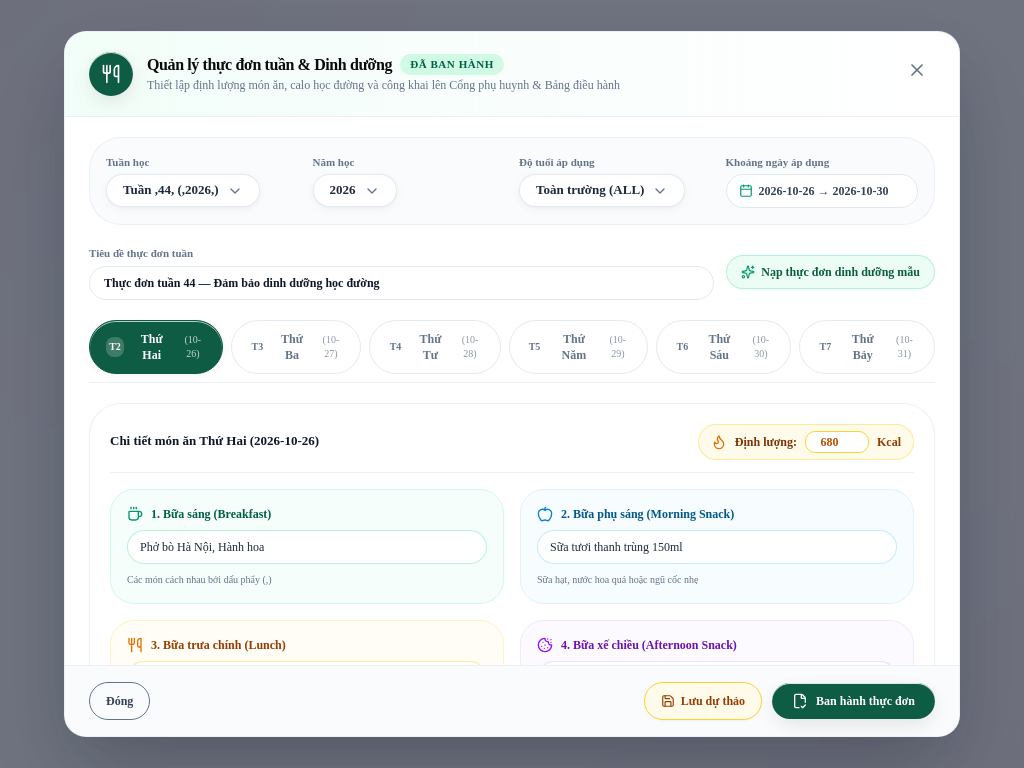
WeeklyMenuEditorModal Component › allows clicking sample menu button to fill dishes
Click the button "Nạp thực đơn dinh dưỡng mẫu" at (831, 272), box top-left (726, 256), bottom-right (935, 290)
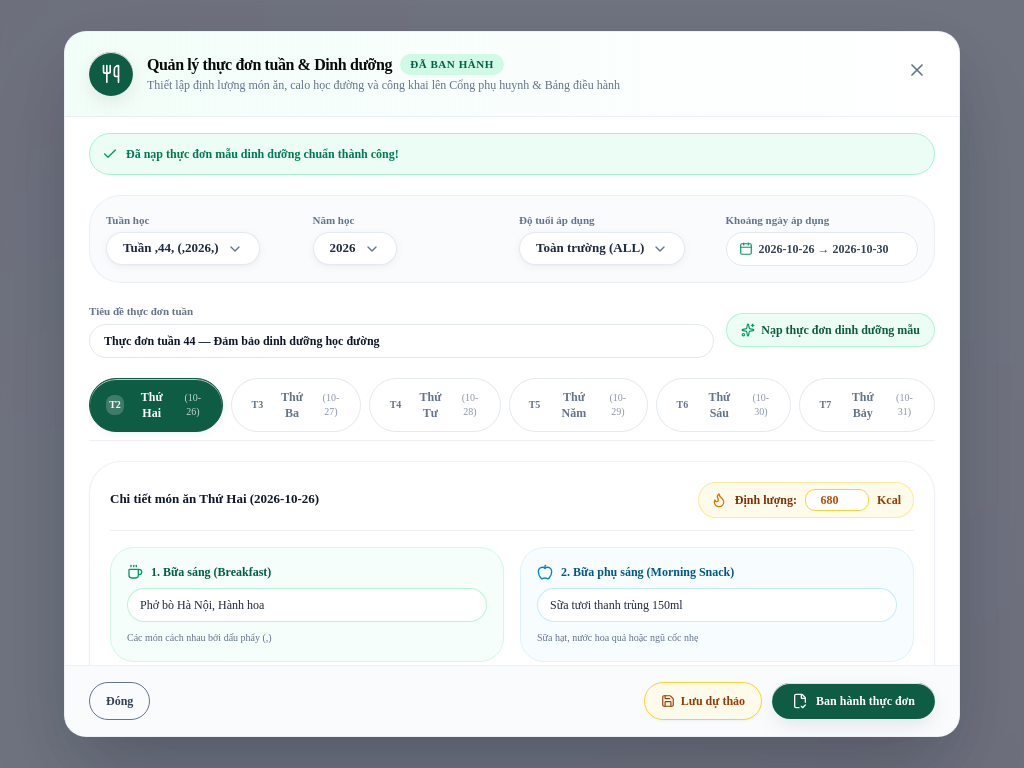
Expected: the text "Đã nạp thực đơn mẫu dinh dưỡng chuẩn thành công!" is shown, top-left (126, 146), bottom-right (399, 162)
